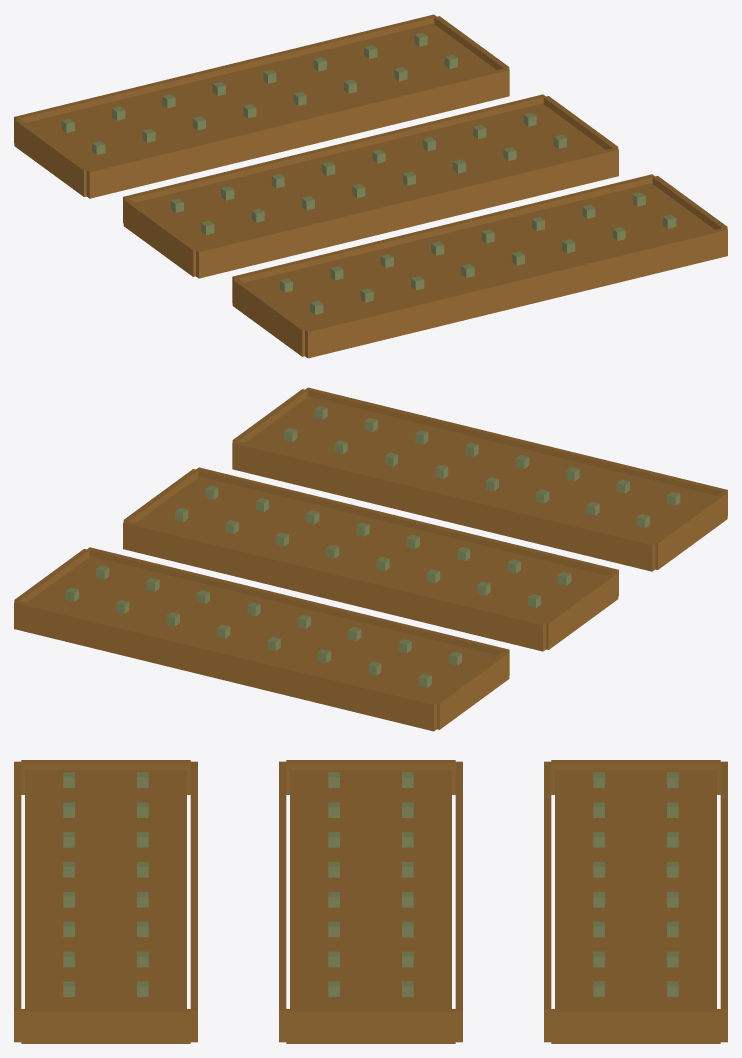
File: SM_Bancales_v1_Plantado_LOD0.fbx
3 views of the same model, one above another, from view 1: azimuth 30°, elevation 25°; view 2: azimuth 150°, elevation 25°; view 3: azimuth 270°, elevation 25° (orthographic). The views are drawn at different scales.
Parts seen in each view (by area): view 1: SM_vida_fuerte_v11_LOD0; view 2: SM_vida_fuerte_v11_LOD0; view 3: SM_vida_fuerte_v11_LOD0.
Part boxes in pixels (<box>): SM_vida_fuerte_v11_LOD0: <box>14,14,727,358</box>; SM_vida_fuerte_v11_LOD0: <box>14,387,727,731</box>; SM_vida_fuerte_v11_LOD0: <box>14,760,727,1043</box>.
Size of the model in its own units: 4.05 by 0.28 by 4.85.
